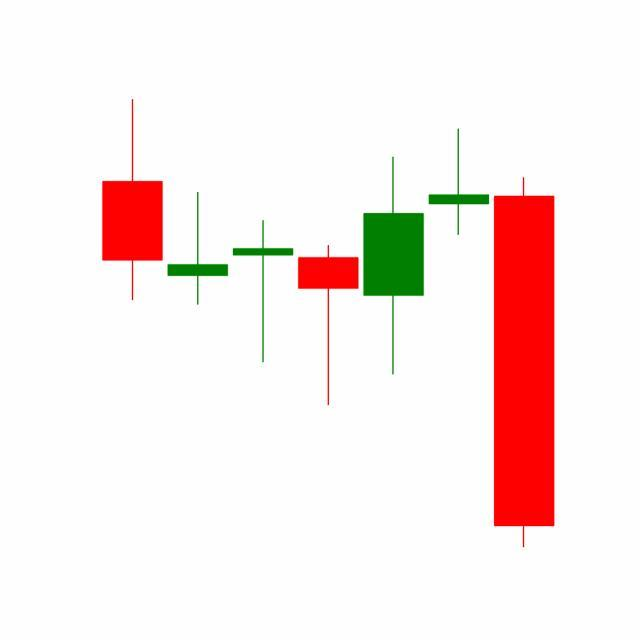Evening Doji Star: (360, 124, 556, 548)
